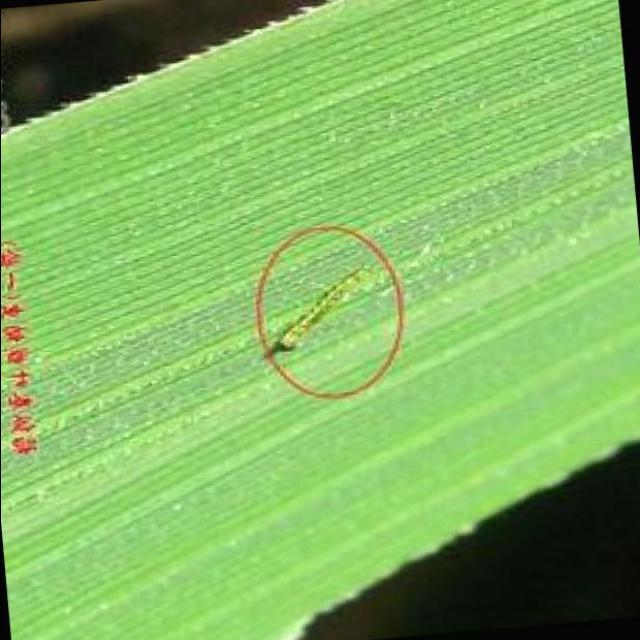leaf folder: (275, 268, 377, 354)
